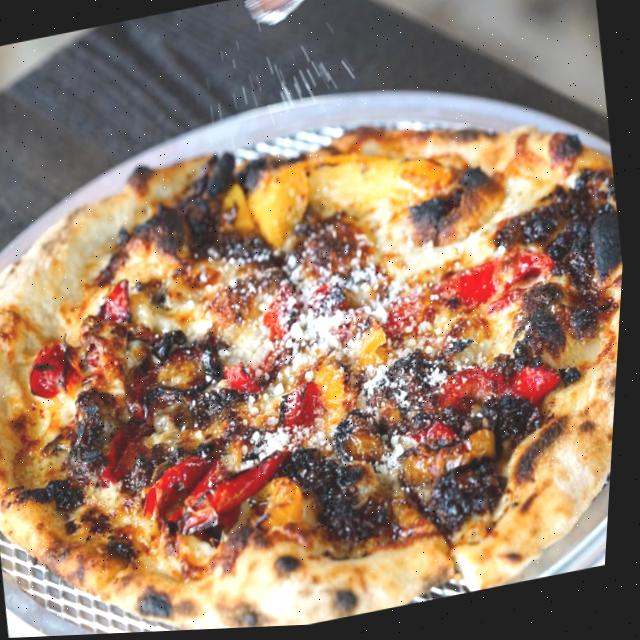pizza: (0, 68, 636, 640)
